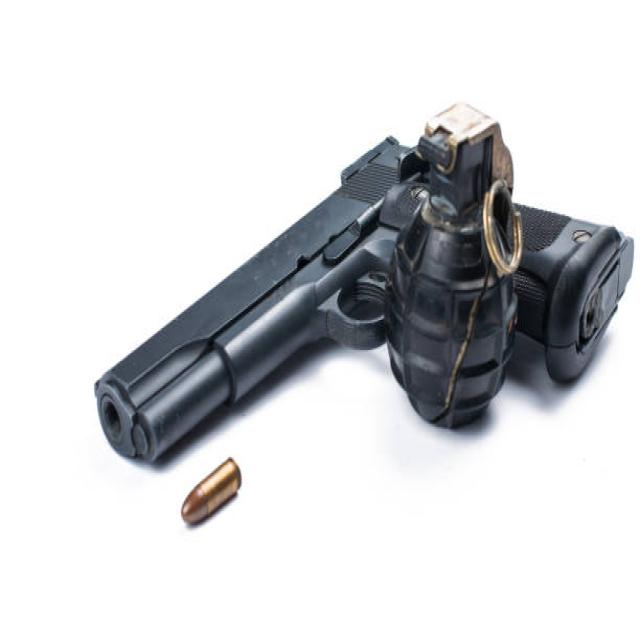grenade: (380, 100, 526, 433)
